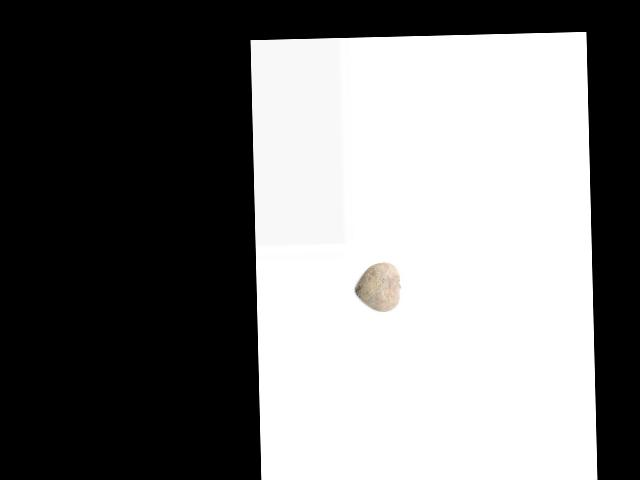beet: (354, 261, 400, 312)
